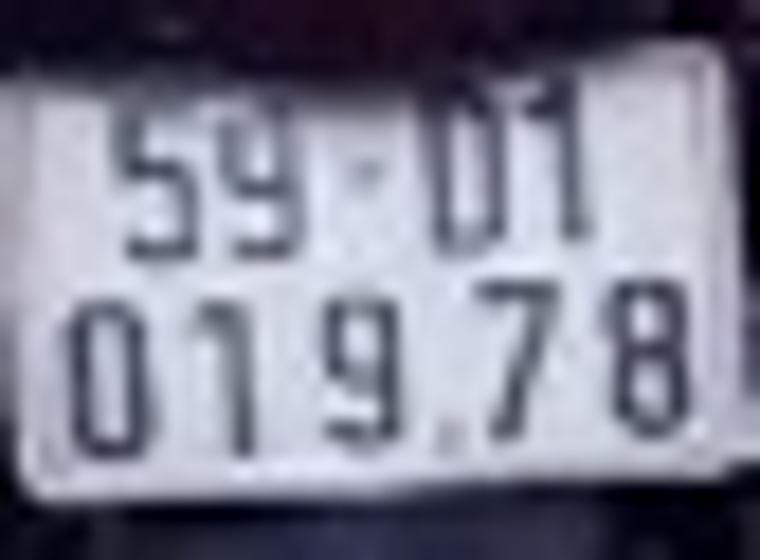-: (339, 154, 402, 193)
.: (429, 411, 478, 465)
0: (62, 296, 152, 468)
1: (530, 61, 595, 249), (199, 298, 261, 466)
5: (104, 78, 208, 277)
7: (480, 274, 574, 450)
8: (608, 271, 694, 447)
9: (212, 90, 315, 268), (317, 282, 406, 455)
D: (418, 74, 513, 260)
